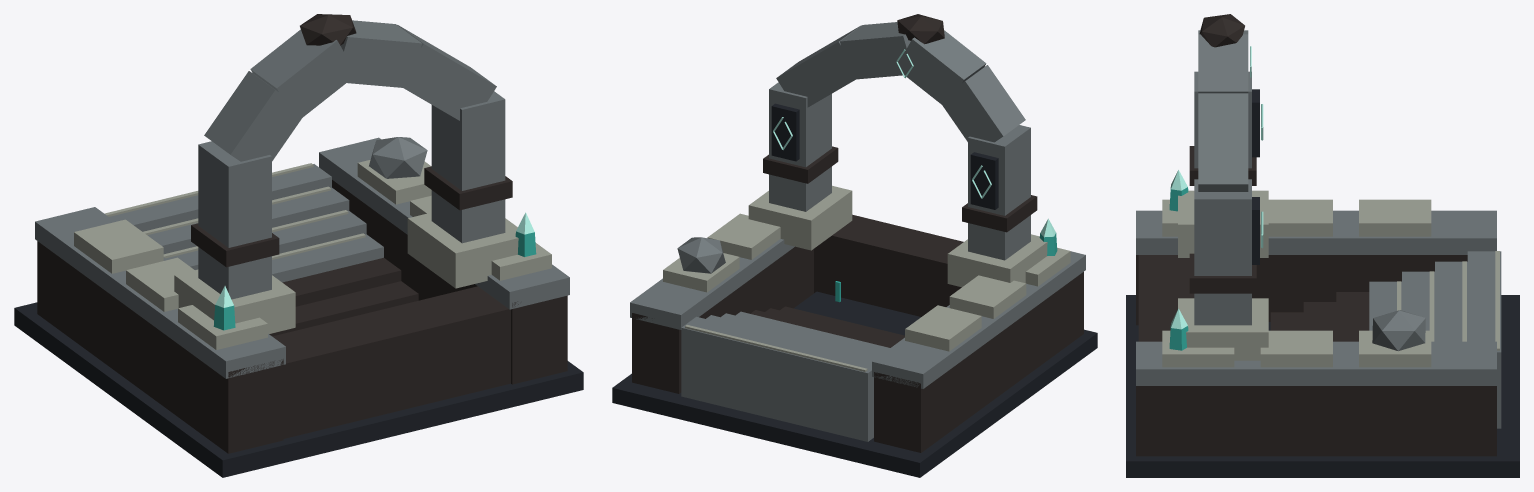
File: AbyssGate.fbx
3 renders of one model, left to right at view 1: azimuth 30°, elevation 25°; view 2: azimuth 150°, elevation 25°; view 3: azimuth 270°, elevation 25°, orthographic. The views are drawn at different scales.
Visible parts, largest first — view 1: AbyssGate; view 2: AbyssGate; view 3: AbyssGate.
Boxes of the visible parts, x1=… form: AbyssGate: x1=14, y1=14, x2=583, y2=477; AbyssGate: x1=612, y1=14, x2=1097, y2=477; AbyssGate: x1=1126, y1=14, x2=1519, y2=477.
Bounding box in the file's own units: 3 × 3.08 × 3.
1 material, 1 textured.
